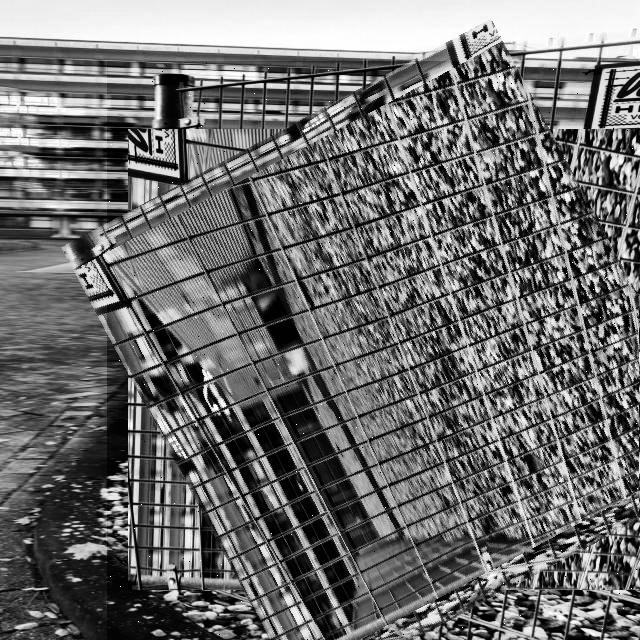fences: (107, 61, 640, 640)
